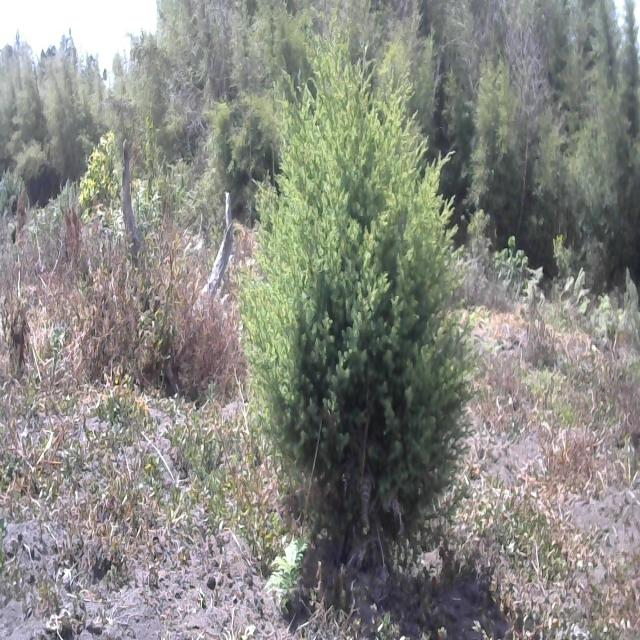Juniperus procesera: (261, 57, 474, 599)
